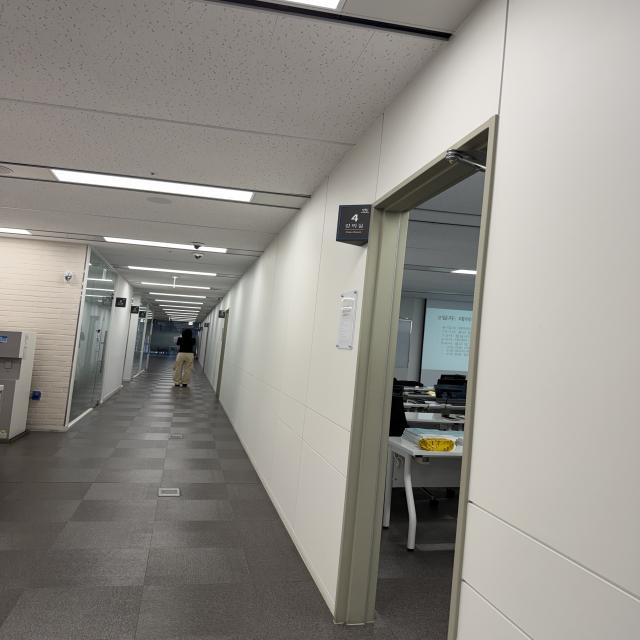room4: (337, 205, 371, 245)
